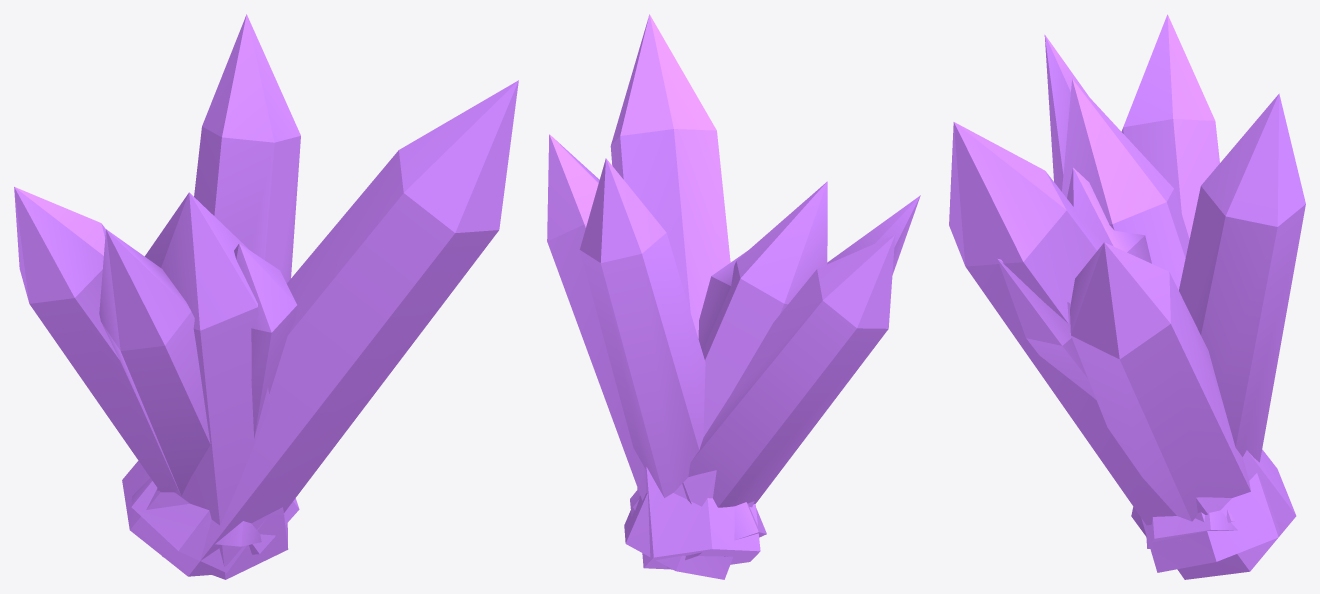
File: obj_deco_cristales.glb
3 renders of one model, left to right at view 1: azimuth 30°, elevation 25°; view 2: azimuth 150°, elevation 25°; view 3: azimuth 270°, elevation 25°, orthographic. The views are drawn at different scales.
Visible parts, largest first — view 1: propforge-libre-deco_cristales; view 2: propforge-libre-deco_cristales; view 3: propforge-libre-deco_cristales.
Boxes of the visible parts, x1,y1,x2,y2 form: propforge-libre-deco_cristales: (14,14,518,579); propforge-libre-deco_cristales: (547,14,920,579); propforge-libre-deco_cristales: (949,14,1305,579).
Bounding box in the file's own units: 0.3916 × 0.4536 × 0.2721.
